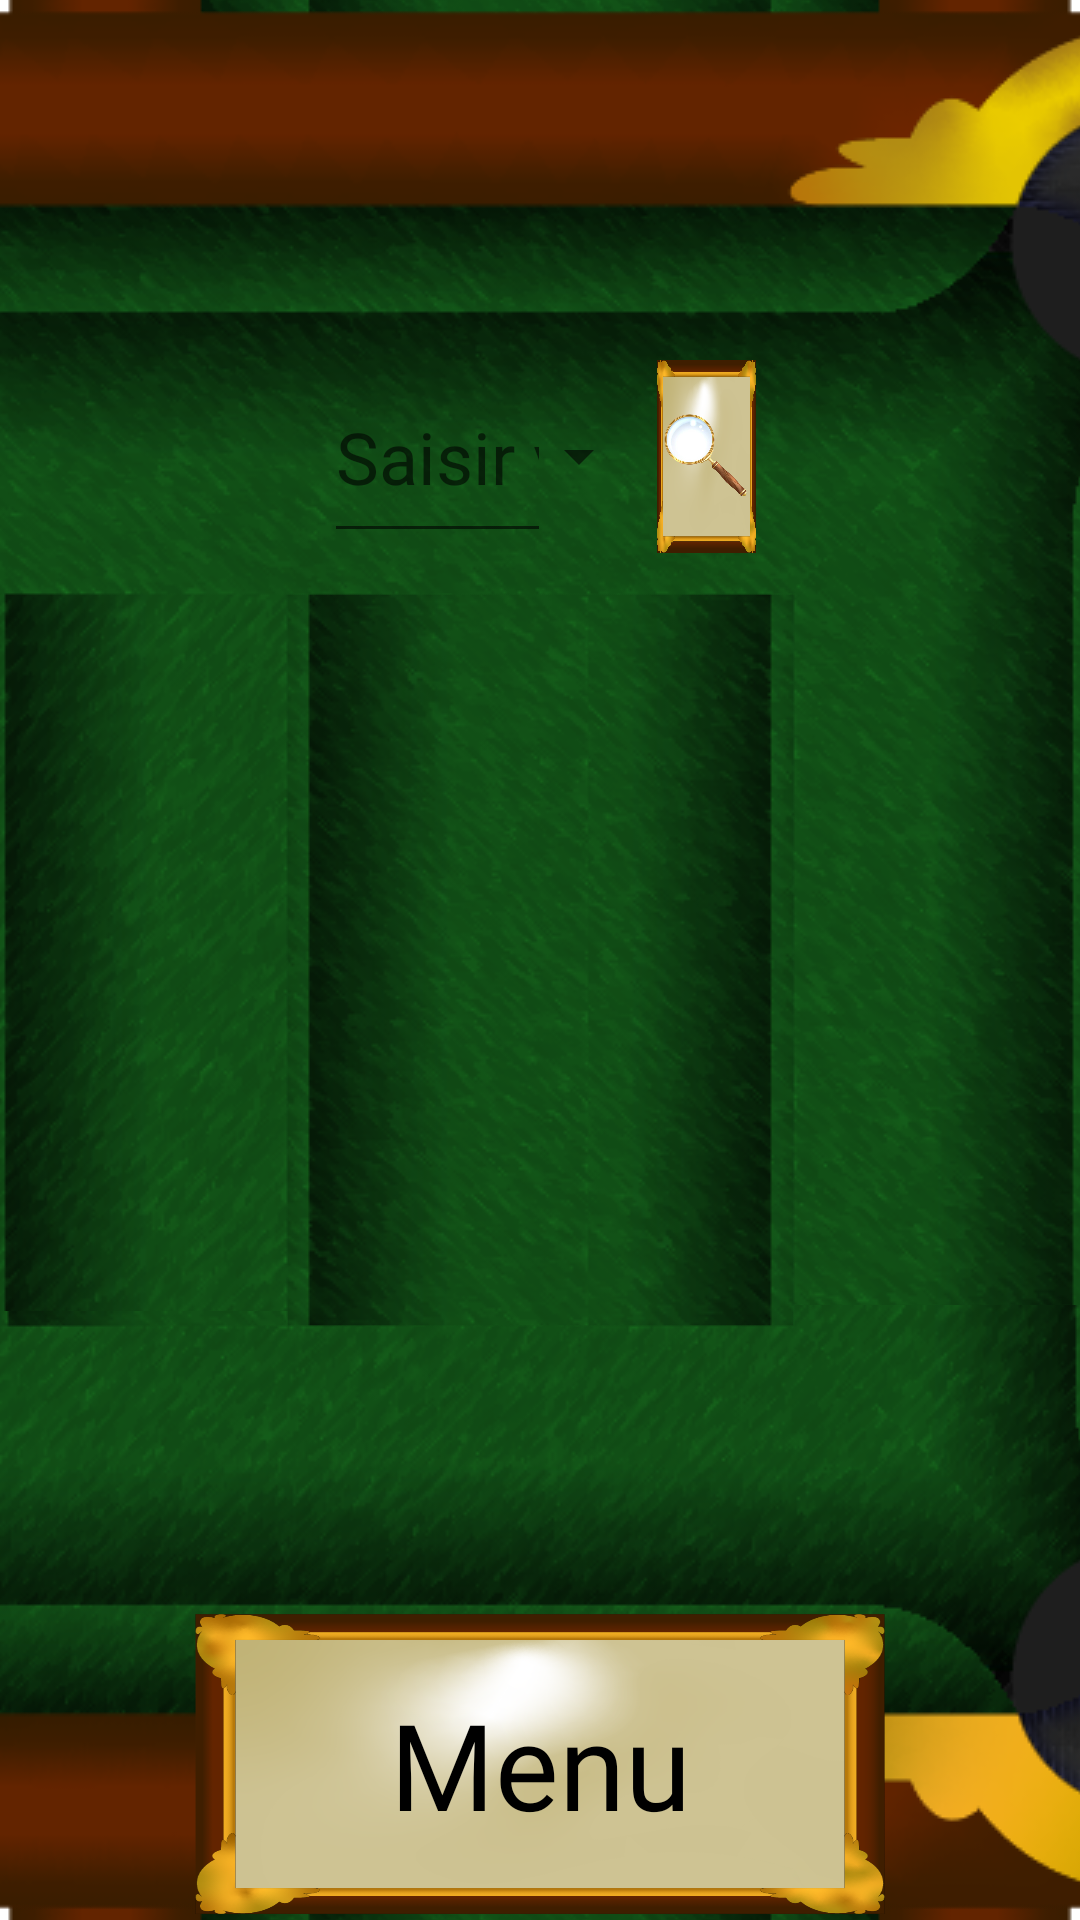

Where to tap for icons on this 1080px x 1920px app screen, as (x=x, y=y):
loupe: (x=706, y=456)
